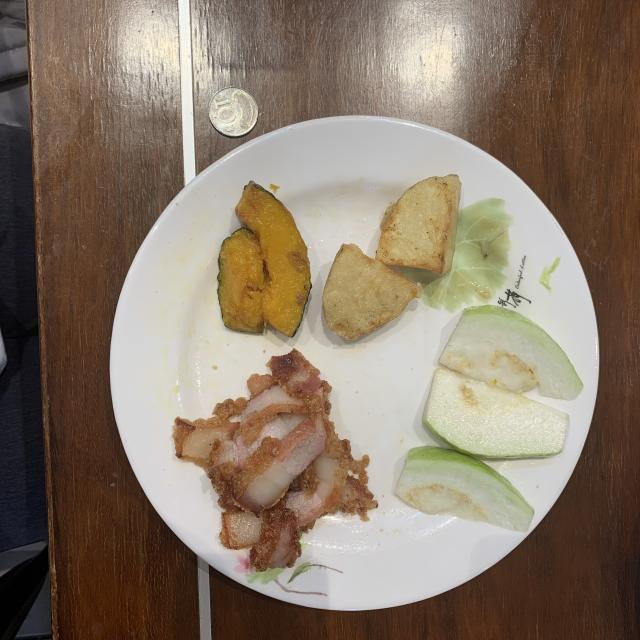coin: (209, 88, 258, 136)
fried potato: (322, 174, 461, 340)
guava -sliced-: (395, 305, 582, 531)
pumpkin: (218, 181, 311, 336)
red grilled pork: (172, 350, 378, 570)
